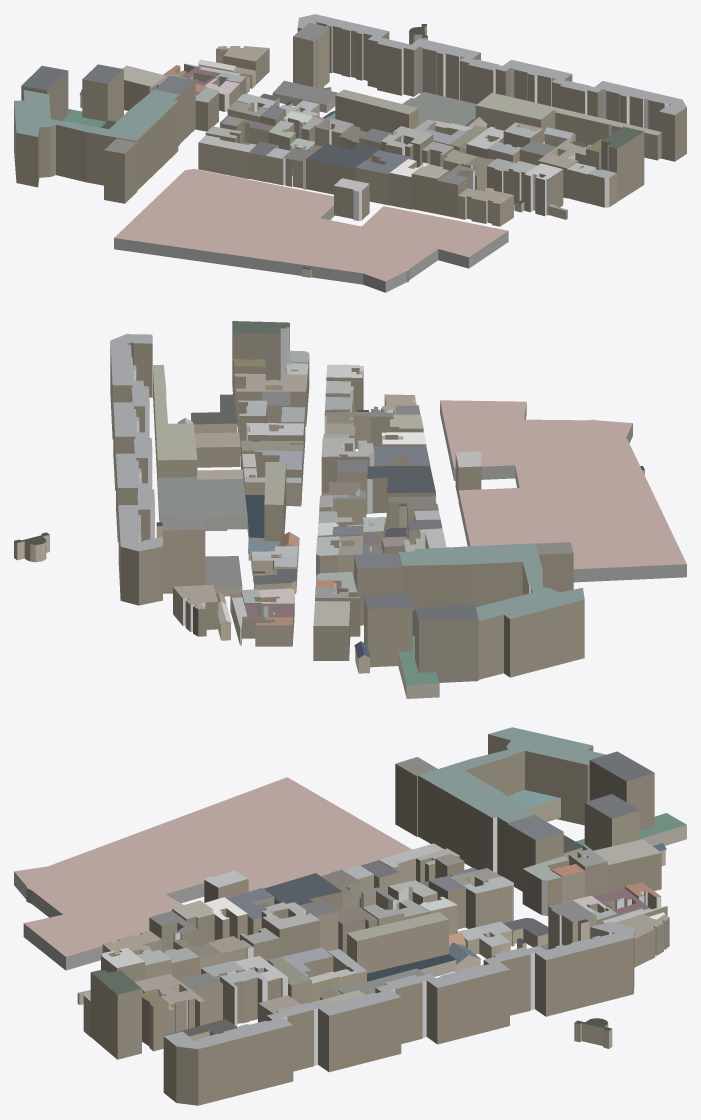
3 renders of one model, top to bottom at view 1: azimuth 30°, elevation 25°; view 2: azimuth 150°, elevation 25°; view 3: azimuth 270°, elevation 25°, orthographic. The views are drawn at different scales.
Visible parts, largest first — view 1: tuile; view 2: tuile; view 3: tuile.
Part boxes in pixels (x1=…): tuile: x1=14, y1=14, x2=686, y2=292; tuile: x1=14, y1=321, x2=686, y2=698; tuile: x1=14, y1=727, x2=686, y2=1105.
Size of the model in its own units: 332 by 35.14 by 297.
